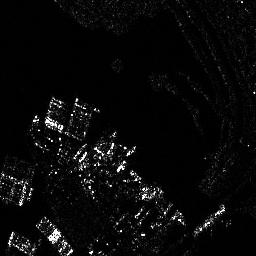ship: (34, 214, 76, 255), (5, 230, 35, 256)
